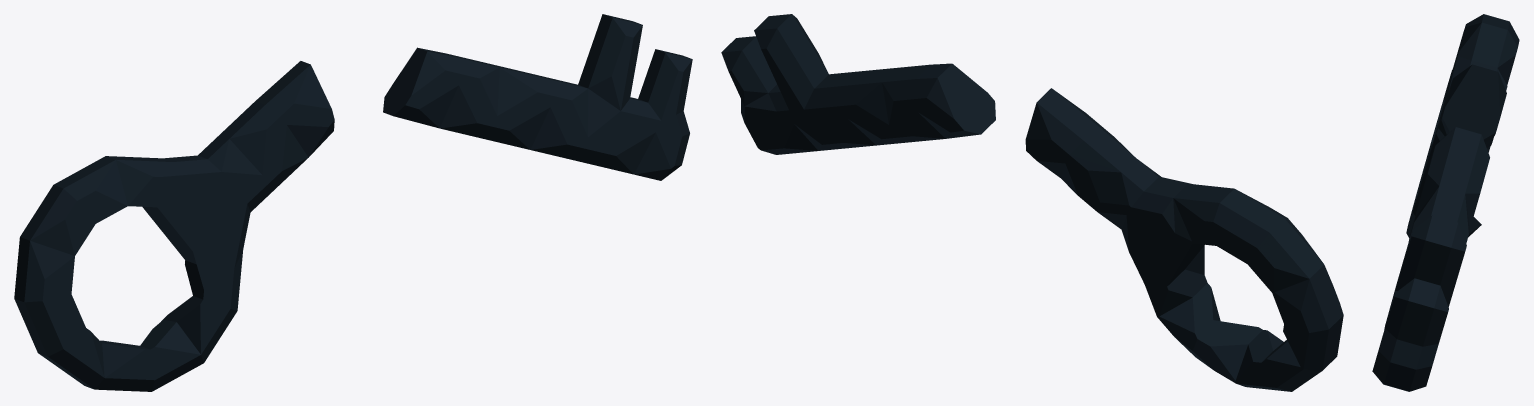
File: brokenNFKey.glb
3 views of the same model, side by side, from view 1: azimuth 30°, elevation 25°; view 2: azimuth 150°, elevation 25°; view 3: azimuth 270°, elevation 25° (orthographic). The views are drawn at different scales.
Visible parts, largest first — view 1: Circle.028; view 2: Circle.028; view 3: Circle.028.
Part boxes in pixels (left/top/right/bottom): Circle.028: left=14, top=14, right=692, bottom=391; Circle.028: left=721, top=14, right=1343, bottom=391; Circle.028: left=1372, top=14, right=1519, bottom=391.
Bounding box in the file's own units: 2 × 0.7958 × 0.3822.
Materials: 1 (1 with a texture image).
